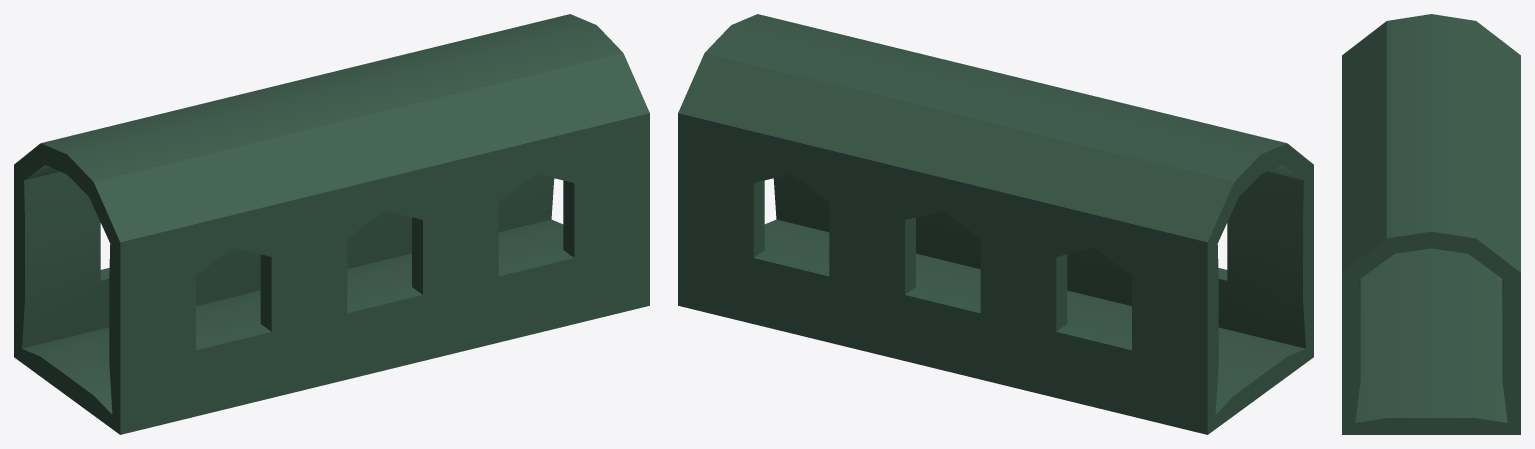
File: Greybox__Trains.fbx
3 views of the same model, side by side, from view 1: azimuth 30°, elevation 25°; view 2: azimuth 150°, elevation 25°; view 3: azimuth 270°, elevation 25° (orthographic). The views are drawn at different scales.
Parts seen in each view (by area): view 1: Tren; view 2: Tren; view 3: Tren.
Boxes of the visible parts, bbox=[...] form: Tren: bbox=[14, 14, 649, 434]; Tren: bbox=[678, 14, 1313, 434]; Tren: bbox=[1342, 14, 1520, 434].
Size of the model in its own units: 883 by 385 by 307.
